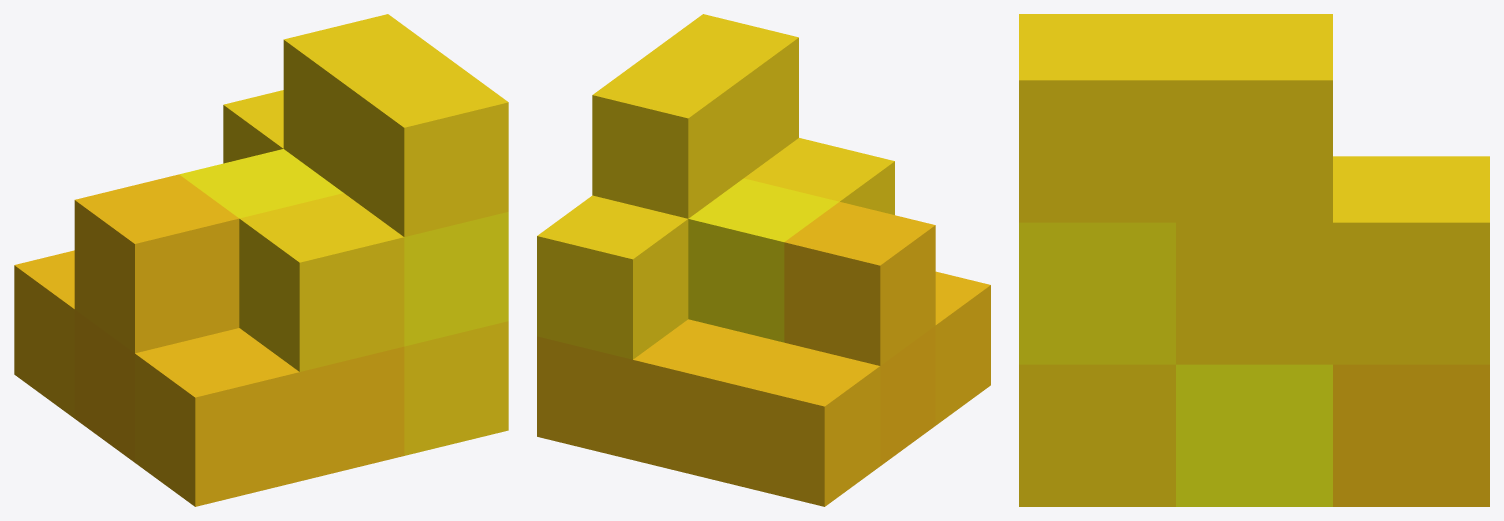
The model's file is wall_torch-8-flames.obj.
3 views of the same model, side by side, from view 1: azimuth 30°, elevation 25°; view 2: azimuth 150°, elevation 25°; view 3: azimuth 270°, elevation 25° (orthographic). The views are drawn at different scales.
Visible parts, largest first — view 1: flames; view 2: flames; view 3: flames.
Boxes of the visible parts, x1,y1,x2,y2 form: flames: (14, 14, 508, 506); flames: (537, 14, 990, 506); flames: (1019, 14, 1489, 506).
Size of the model in its own units: 0.3 by 0.3 by 0.3.
Materials: 1 (1 with a texture image).
